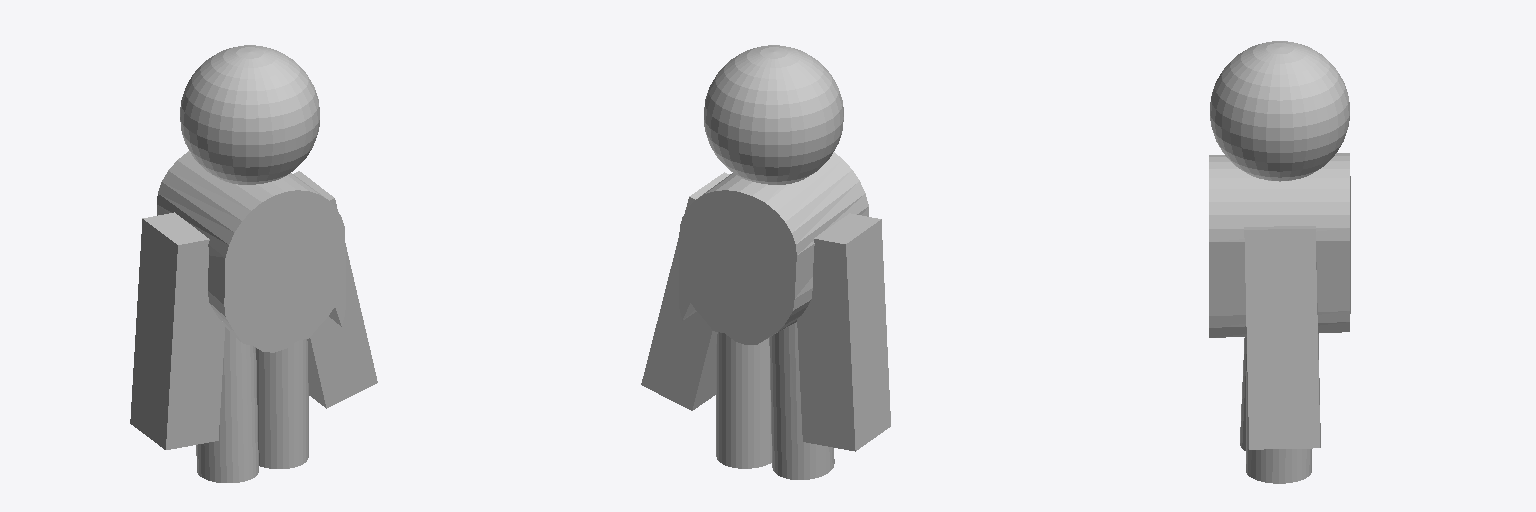
Rendered from Figurine89.obj.
The picture shows the model from 3 angles: view 1: azimuth 30°, elevation 25°; view 2: azimuth 150°, elevation 25°; view 3: azimuth 270°, elevation 25°; orthographic projection.
Parts seen in each view (by area): view 1: Cylinder; view 2: Cylinder; view 3: Cylinder.
Boxes of the visible parts, x1=… form: Cylinder: x1=130, y1=45, x2=377, y2=482; Cylinder: x1=641, y1=45, x2=890, y2=479; Cylinder: x1=1209, y1=41, x2=1350, y2=483.
Bounding box in the file's own units: 3.49 × 6.44 × 2.